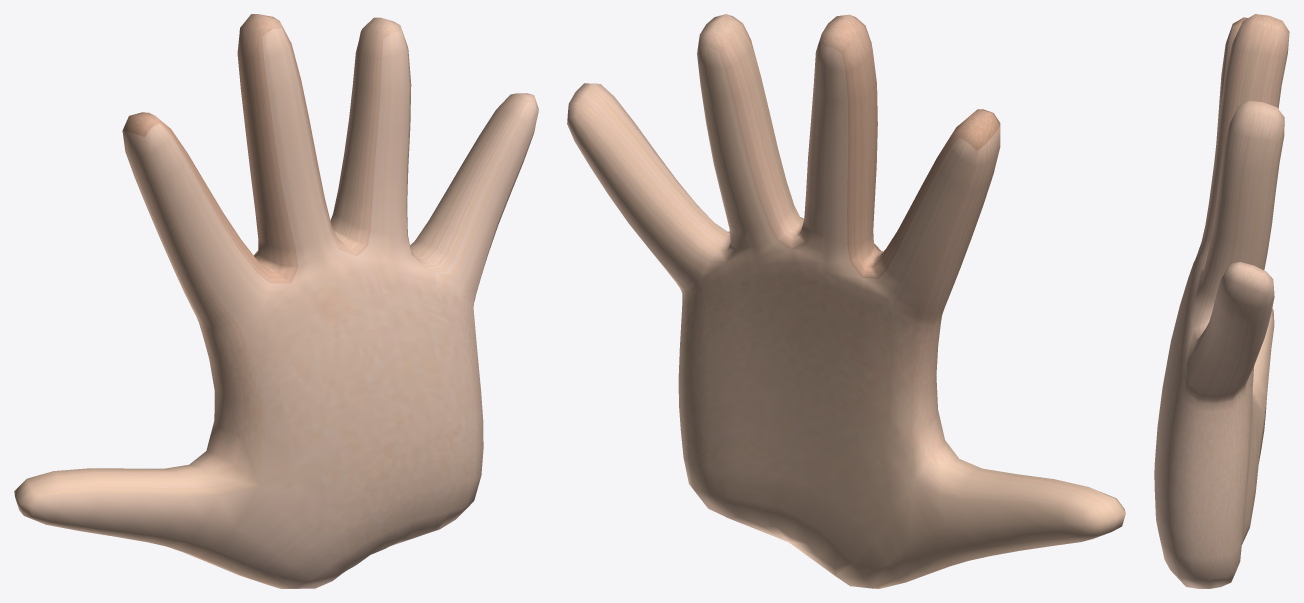
The model's file is R_hand03.fbx.
3 renders of one model, left to right at view 1: azimuth 30°, elevation 25°; view 2: azimuth 150°, elevation 25°; view 3: azimuth 270°, elevation 25°, orthographic. The views are drawn at different scales.
Parts seen in each view (by area): view 1: hand; view 2: hand; view 3: hand.
Boxes of the visible parts, <box> form: hand: <box>14,14,538,588</box>; hand: <box>567,14,1125,588</box>; hand: <box>1154,14,1289,588</box>.
Bounding box in the file's own units: 438 × 448 × 102.
Materials: 1 (1 with a texture image).
